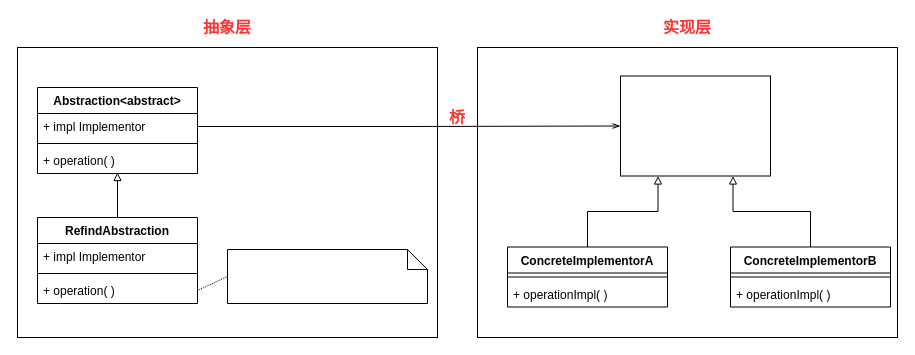
This 915x355 diagram has some shape labels left out. The shapes that lost their labels are listed below. From the top down, each one's box as (x1, y1, x2, y2) in pixels, then its label:
(620, 75, 770, 176): <<Interface>> Implementor + operationImpl( )
(226, 248, 428, 304): impl.operationImpl()
